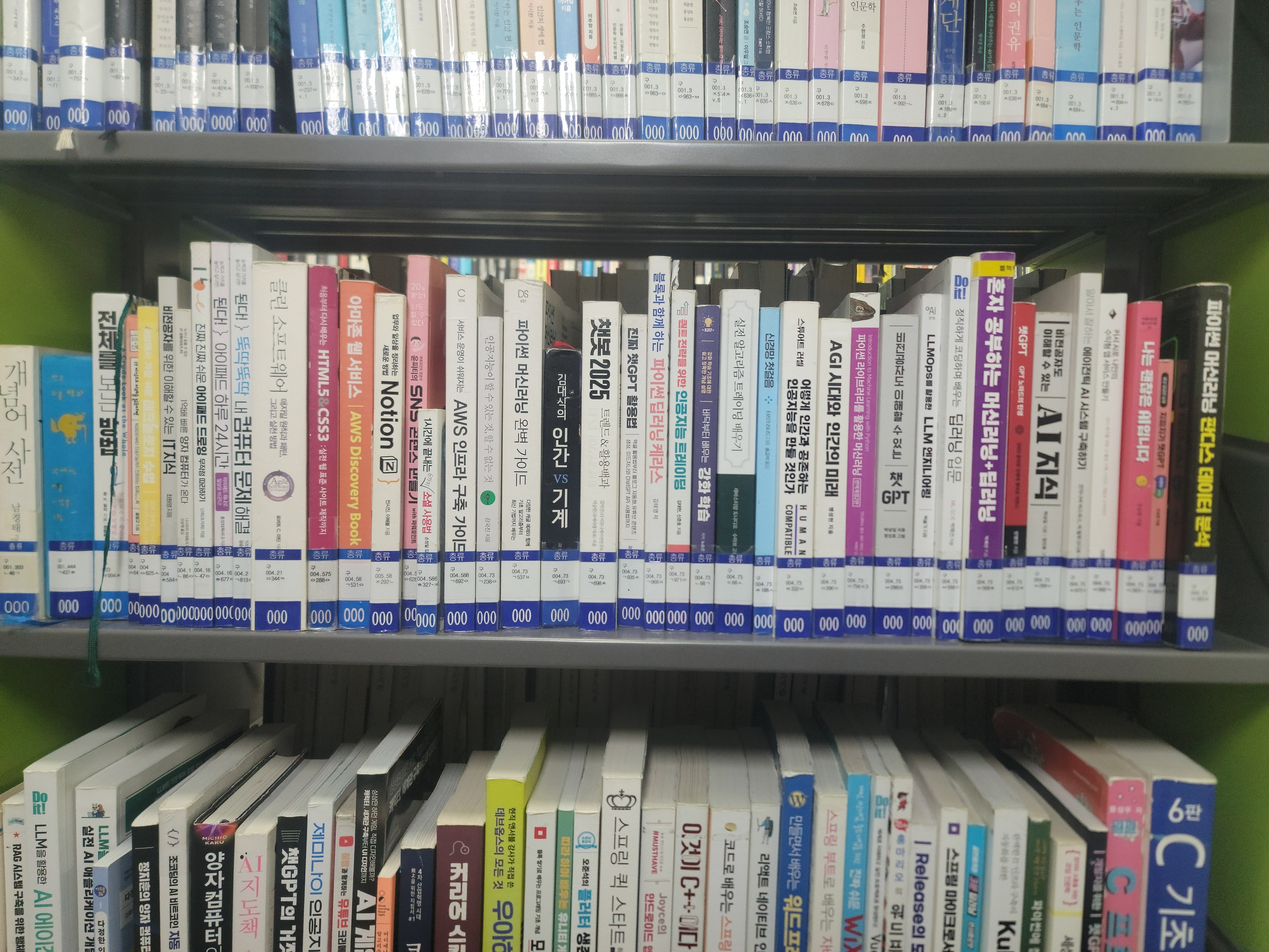book-spine: (251, 263, 307, 631), (962, 254, 1014, 642), (1177, 285, 1230, 652), (713, 290, 759, 636), (1025, 312, 1073, 640), (499, 279, 543, 629), (872, 314, 919, 639), (774, 301, 819, 639), (1061, 271, 1102, 641), (1119, 301, 1161, 645), (1086, 292, 1127, 642), (40, 355, 93, 624), (935, 255, 972, 639), (579, 300, 620, 632), (810, 318, 851, 639), (842, 291, 880, 636), (399, 252, 432, 630), (91, 293, 128, 624), (338, 281, 373, 630), (368, 295, 404, 633), (999, 303, 1035, 641), (0, 345, 43, 620), (444, 276, 477, 634), (909, 293, 943, 638), (540, 349, 581, 632), (308, 267, 338, 631), (664, 290, 695, 631), (688, 304, 720, 634), (642, 256, 670, 632), (751, 306, 781, 637), (618, 313, 647, 633), (190, 243, 214, 627), (1143, 358, 1175, 646), (210, 241, 233, 627), (475, 315, 502, 631), (231, 244, 252, 629), (138, 309, 160, 625), (176, 309, 195, 627), (159, 279, 176, 626), (415, 410, 440, 636), (127, 329, 141, 622)
